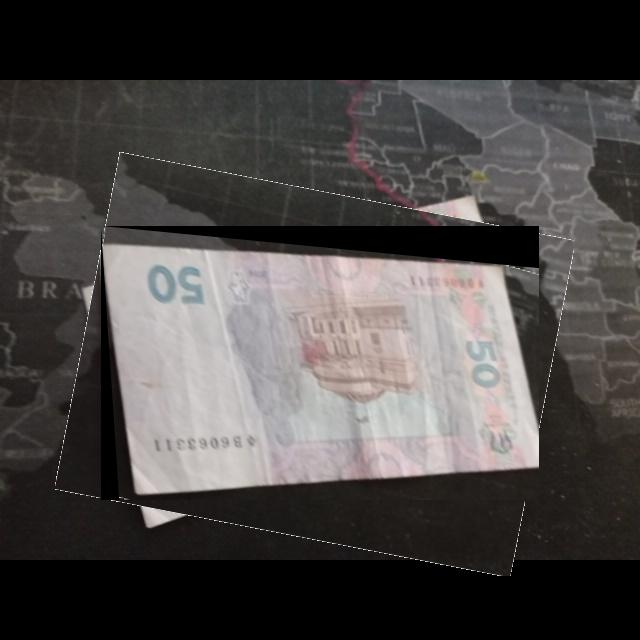50uah: (103, 247, 540, 501)
